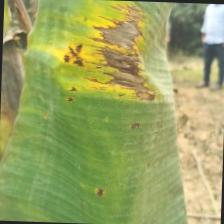pestalotiopsis: (0, 0, 195, 224)
